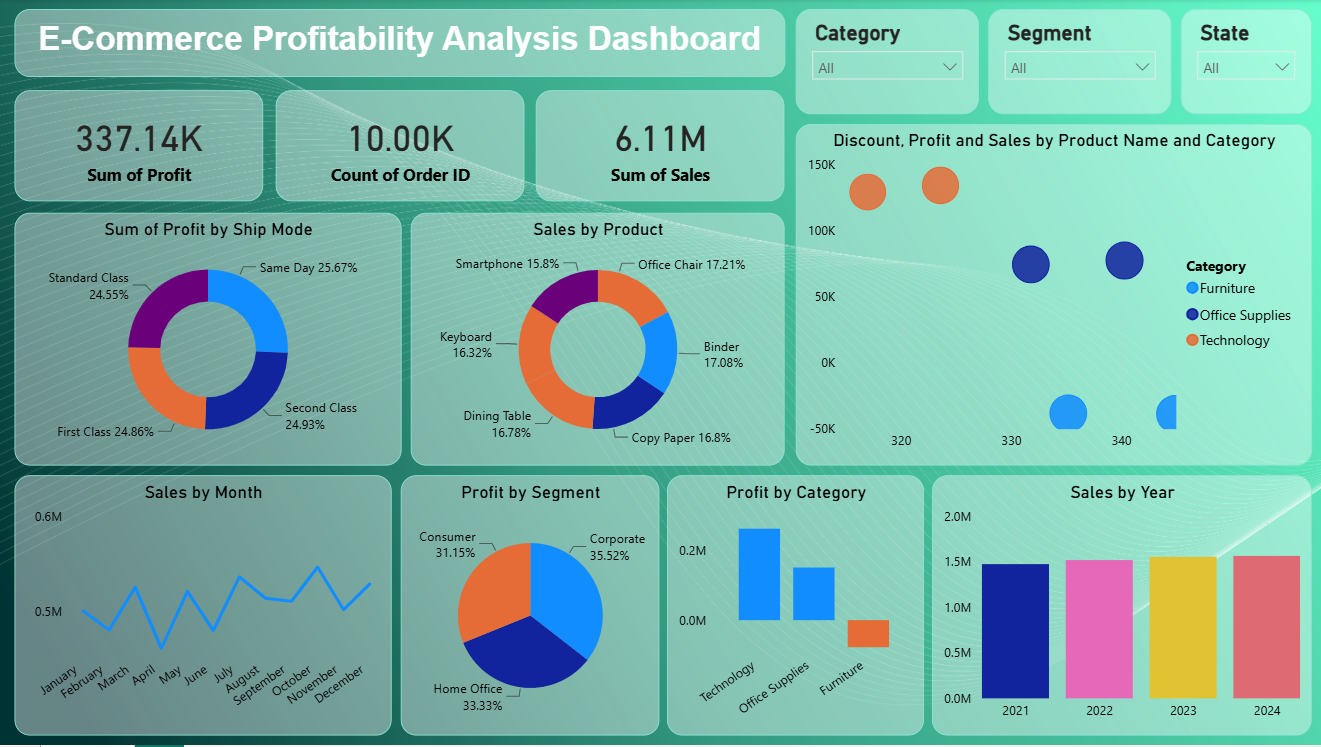

What the dashboard file says about the page in this screenshot:
{"tool":"powerbi","page":{"name":"Page 1","canvas":[1280,720],"ordinal":0},"visuals":[{"type":"lineChart","title":"Sales by Month","fields":{"Category":["Orders.Order Date.Variation.Date Hierarchy.Month"],"Y":["Sum(Orders.Sales)"]},"box":[16.5,459.7,363.6,251.1],"z":0},{"type":"lineClusteredColumnComboChart","title":"Sales by Year","fields":{"Category":["Orders.Order Date.Variation.Date Hierarchy.Year"],"Y":["Sum(Orders.Sales)"]},"box":[902.9,459.7,366.4,251.1],"z":1000},{"type":"columnChart","title":"Profit by Category","fields":{"Category":["Orders.Category"],"Y":["Sum(Orders.Profit)"]},"box":[646.3,459.7,248.4,251.1],"z":2000},{"type":"donutChart","title":"Sales by Product ","fields":{"Category":["Orders.Product Name"],"Y":["Sum(Orders.Sales)"]},"box":[399.3,205.8,360.9,244.3],"z":3000},{"type":"pieChart","title":" Profit by Segment","fields":{"Category":["Orders.Segment"],"Y":["Sum(Orders.Profit)"]},"box":[389.7,459.7,249.7,251.1],"z":4000},{"type":"donutChart","fields":{"Category":["Orders.Ship Mode"],"Y":["Sum(Orders.Profit)"]},"box":[16.5,205.8,373.2,244.3],"z":5000},{"type":"scatterChart","title":"Discount, Profit and Sales by Product Name and Category","fields":{"X":["Sum(Orders.Discount)"],"Y":["Sum(Orders.Profit)"],"Size":["Sum(Orders.Sales)"],"Series":["Orders.Category"],"Category":["Orders.Product Name"]},"box":[771.2,120.8,498.1,329.3],"z":6000},{"type":"card","fields":{"Values":["Sum(Orders.Profit)"]},"box":[16.5,87.8,240.1,107],"z":7000},{"type":"card","fields":{"Values":["CountNonNull(Orders.Order ID)"]},"box":[269,87.8,240.1,107],"z":8000},{"type":"card","fields":{"Values":["Sum(Orders.Sales)"]},"box":[520.1,87.8,240.1,107],"z":9000},{"type":"slicer","fields":{"Values":["Orders.State"]},"box":[1143.1,9.6,126.2,101.5],"z":10000},{"type":"slicer","fields":{"Values":["Orders.Segment"]},"box":[956.4,9.6,177,101.5],"z":11000},{"type":"slicer","fields":{"Values":["Orders.Category"]},"box":[771.2,9.6,177,101.5],"z":12000},{"type":"textbox","box":[16.5,9.6,743.7,65.9],"z":13000}]}

Visuals, with their boxes in screenshot pixels (x1, y1, x2, y2), scaled from the page's 1280x720 canvas onto the 1321x747 screenshot:
"Sales by Month" lineChart: l=17, t=477, r=392, b=737
"Sales by Year" lineClusteredColumnComboChart: l=932, t=477, r=1310, b=737
"Profit by Category" columnChart: l=667, t=477, r=923, b=737
"Sales by Product " donutChart: l=412, t=214, r=785, b=467
" Profit by Segment" pieChart: l=402, t=477, r=660, b=737
donutChart - Orders.Ship Mode x Sum(Orders.Profit): l=17, t=214, r=402, b=467
"Discount, Profit and Sales by Product Name and Category" scatterChart: l=796, t=125, r=1310, b=467
card - Sum(Orders.Profit): l=17, t=91, r=265, b=202
card - CountNonNull(Orders.Order ID): l=278, t=91, r=525, b=202
card - Sum(Orders.Sales): l=537, t=91, r=785, b=202
slicer - Orders.State: l=1180, t=10, r=1310, b=115
slicer - Orders.Segment: l=987, t=10, r=1170, b=115
slicer - Orders.Category: l=796, t=10, r=979, b=115
textbox: l=17, t=10, r=785, b=78
